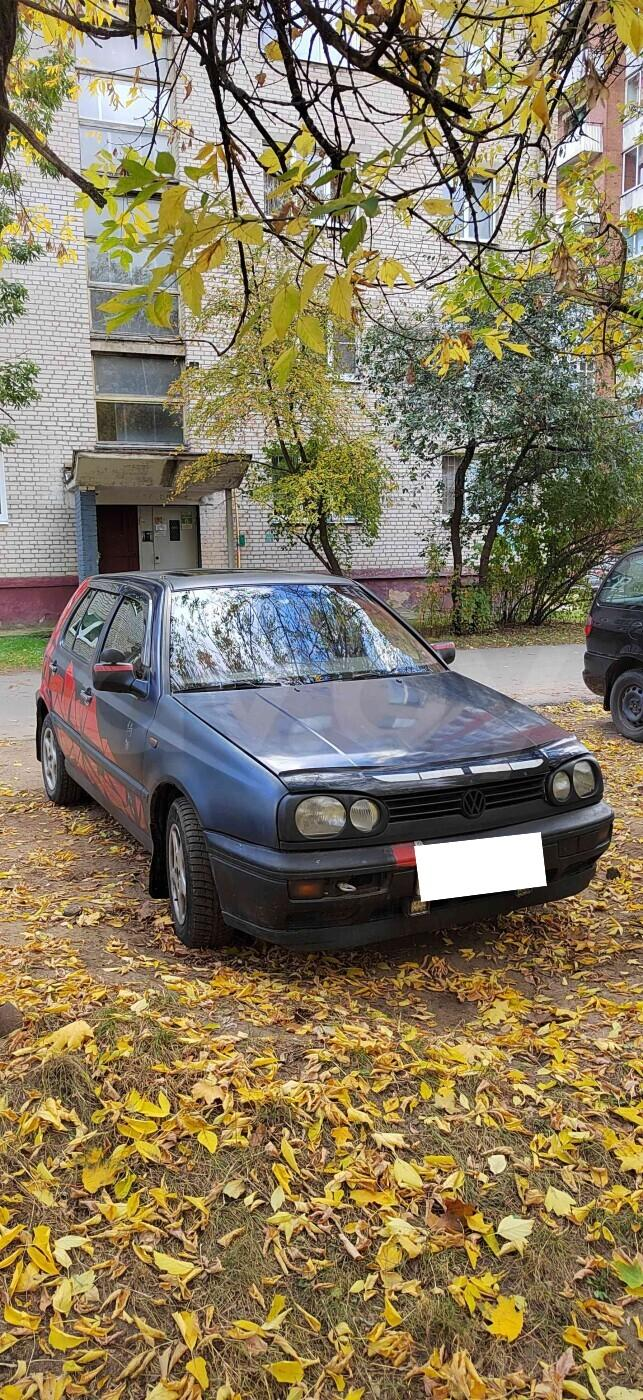Golf_1991-2000: (30, 578, 618, 962)
